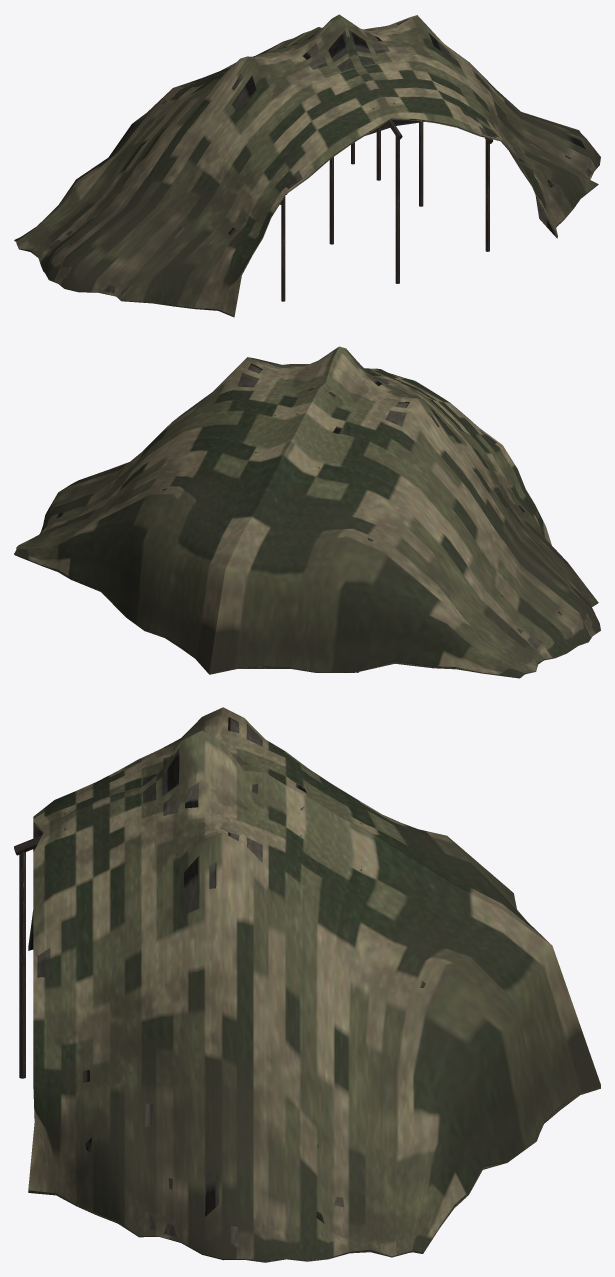
File: SM_ShopTent.fbx
The picture shows the model from 3 angles, top to bottom: view 1: azimuth 30°, elevation 25°; view 2: azimuth 150°, elevation 25°; view 3: azimuth 270°, elevation 25°; orthographic projection. The views are drawn at different scales.
Visible parts, largest first — view 1: SM_ShopTent; view 2: SM_ShopTent; view 3: SM_ShopTent.
Part boxes in pixels (x1,y1,x2,y2): SM_ShopTent: (14,14,600,317); SM_ShopTent: (14,346,600,678); SM_ShopTent: (14,707,600,1262).
Bounding box in the file's own units: 184 × 77.07 × 113.
1 material, 1 textured.
